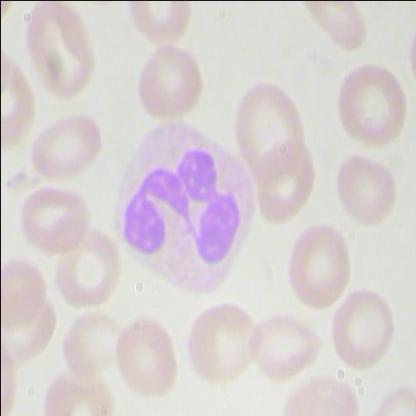RBC: (225, 72, 305, 188), (25, 1, 101, 102), (110, 305, 180, 401), (284, 221, 356, 311), (331, 59, 407, 143), (328, 286, 403, 370), (55, 215, 121, 310), (183, 303, 259, 385), (134, 40, 206, 124), (25, 110, 107, 181), (334, 146, 406, 226), (12, 186, 93, 254), (245, 306, 319, 380), (62, 309, 127, 382)
WBC: (112, 110, 260, 302)
